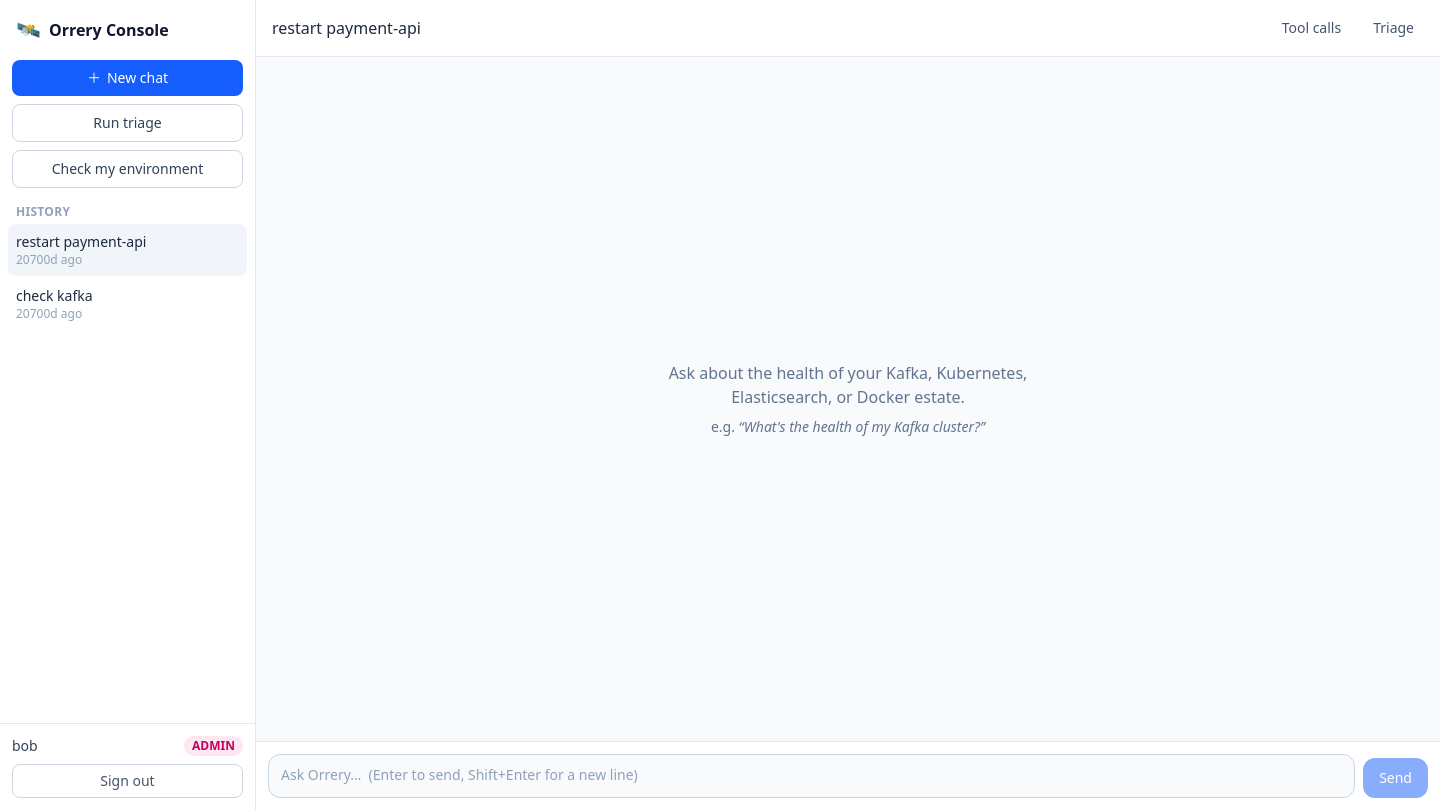
Test: App auth flow › opens an older conversation and fetches its transcript on demand
This screenshot has width=1440, height=810.
Step 1. Click the text "check kafka" → (54, 296), box [16, 286, 93, 305]
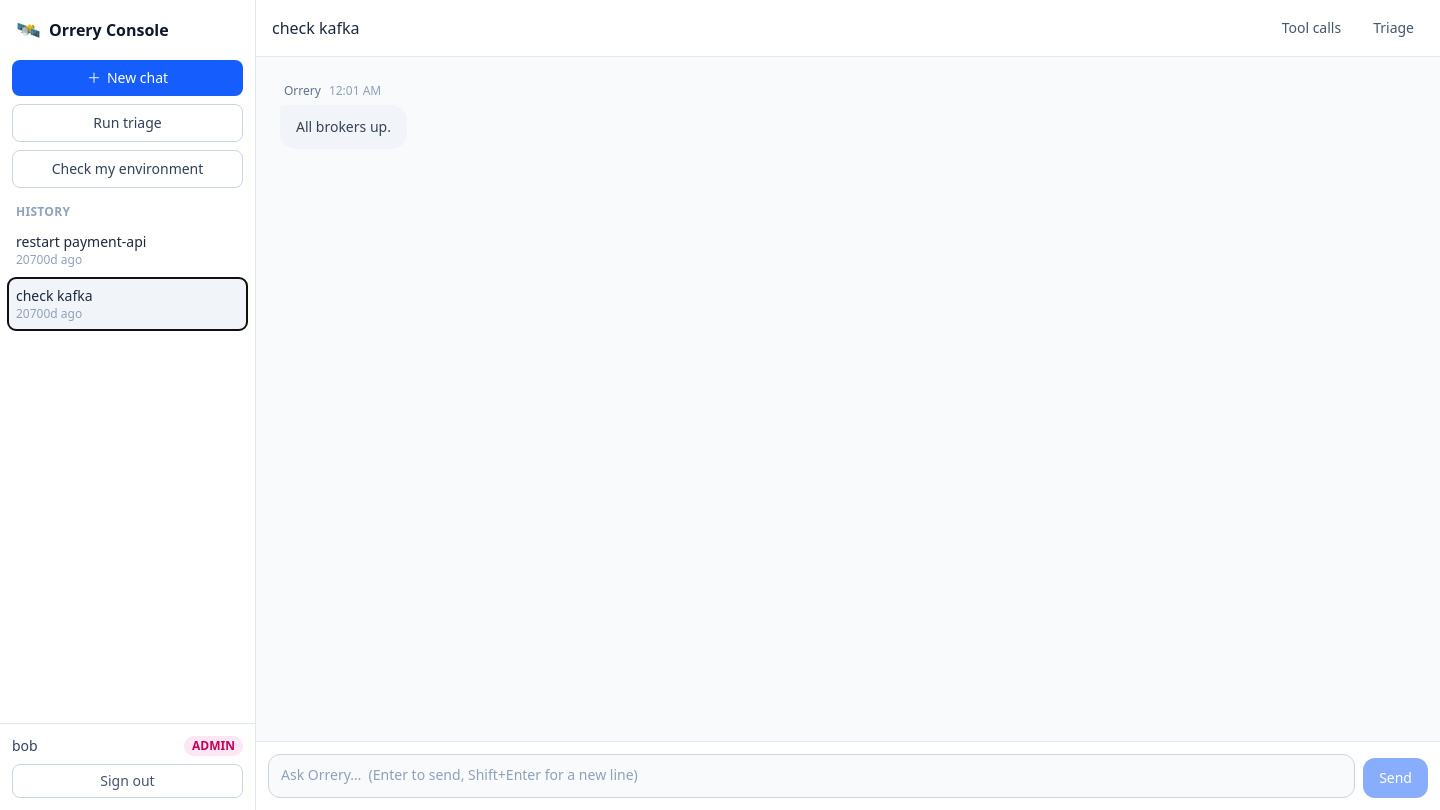
Check: the text "All brokers up." is shown, box [296, 115, 391, 139]
